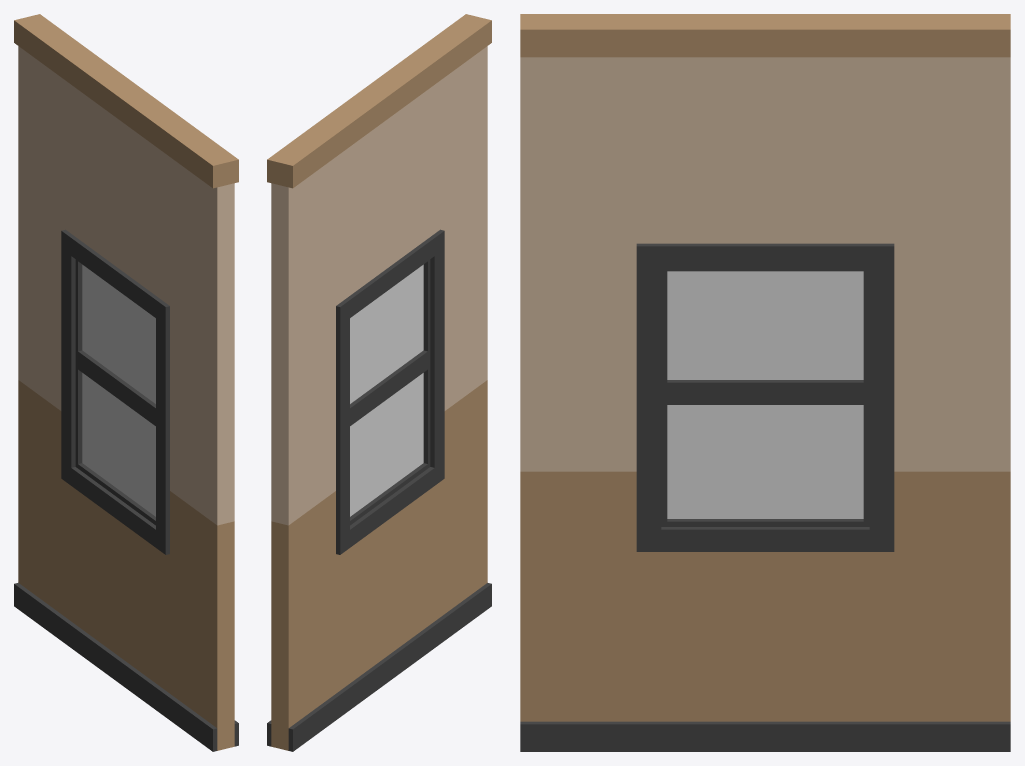
File: wall_02_M_window.dae
The picture shows the model from 3 angles, left to right: view 1: azimuth 30°, elevation 25°; view 2: azimuth 150°, elevation 25°; view 3: azimuth 270°, elevation 25°; orthographic projection. The views are drawn at different scales.
Visible parts, largest first — view 1: Untitled.001, Untitled; view 2: Untitled.001, Untitled; view 3: Untitled.001, Untitled.
Part boxes in pixels (x1,y1,x2,y2): Untitled.001: [14, 14, 238, 751]; Untitled: [82, 264, 155, 516]; Untitled.001: [267, 14, 491, 751]; Untitled: [350, 264, 423, 516]; Untitled.001: [520, 14, 1010, 751]; Untitled: [667, 271, 863, 518].
Size of the model in its own units: 0.18 by 2.4 by 3.9.
2 materials, 2 textured.
